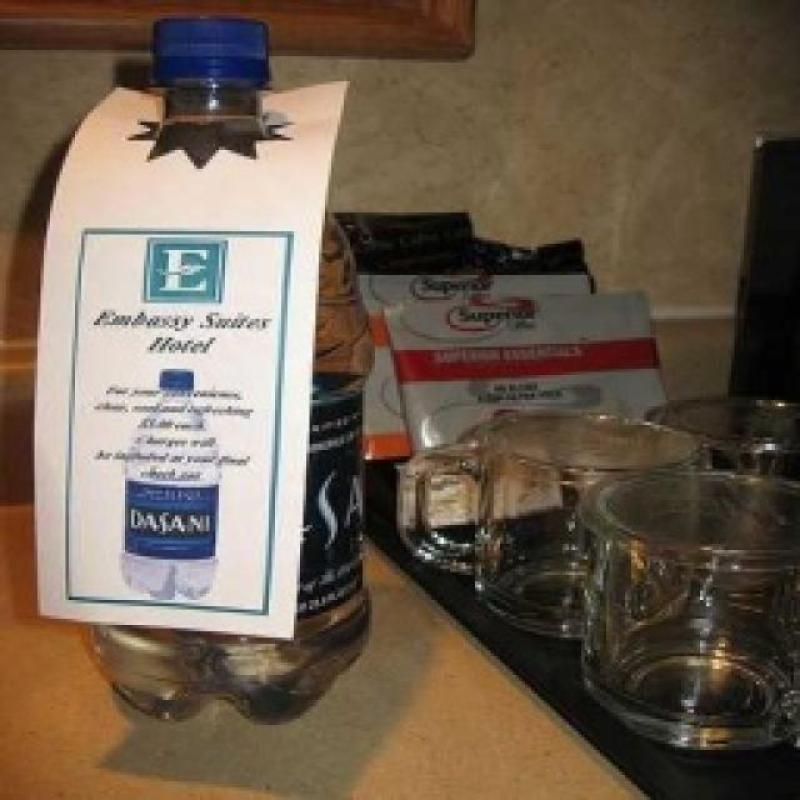botella: (81, 19, 375, 725)
